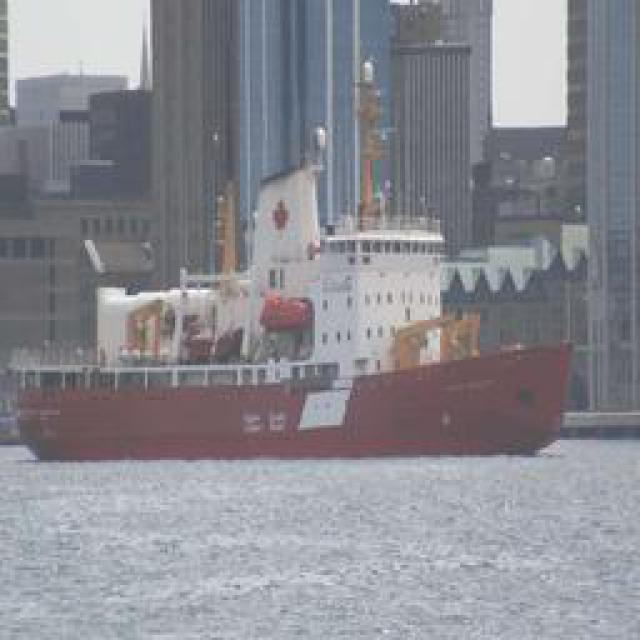Ship: (16, 338, 576, 466)
